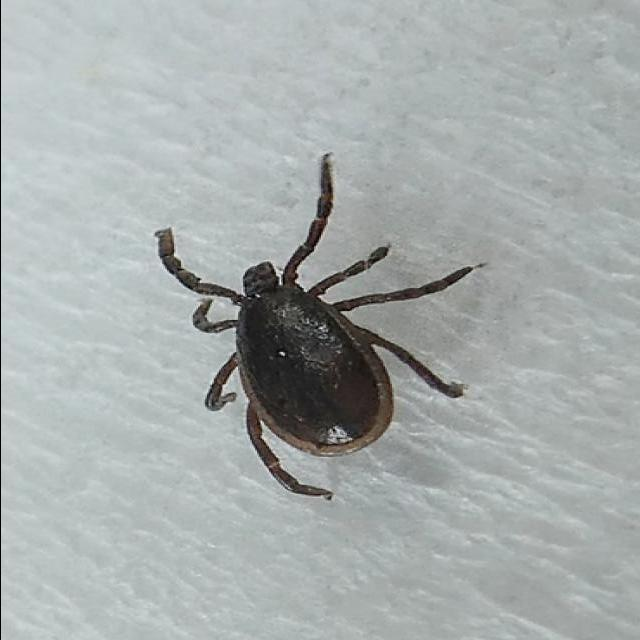Ixodes Ricinus-M: (156, 154, 474, 502)
